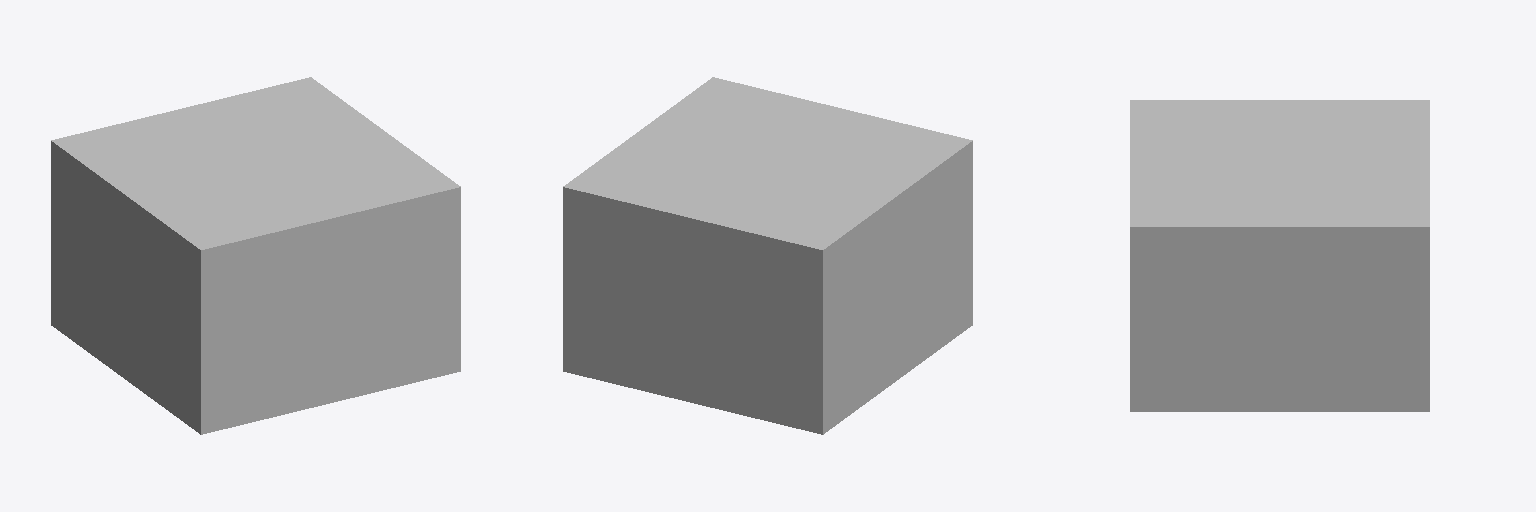
File: tile_013.obj
The picture shows the model from 3 angles: view 1: azimuth 30°, elevation 25°; view 2: azimuth 150°, elevation 25°; view 3: azimuth 270°, elevation 25°; orthographic projection.
Visible parts, largest first — view 1: tile_013; view 2: tile_013; view 3: tile_013.
Part boxes in pixels (x1,y1,x2,y2): tile_013: (51,77,460,434); tile_013: (563,77,972,434); tile_013: (1130,100,1429,411).
Bounding box in the file's own units: 0.5901 × 0.4 × 0.5901.